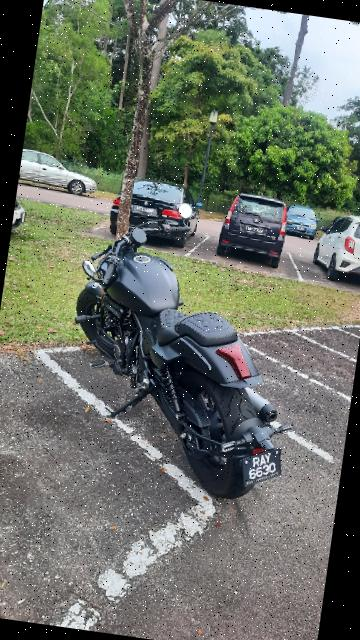License_Plate: (236, 442, 291, 492), (128, 202, 162, 220), (242, 221, 269, 237)
car: (108, 170, 205, 247), (215, 184, 292, 266), (19, 146, 101, 198), (316, 213, 360, 284), (285, 200, 321, 241)
motorcycle: (45, 192, 319, 509)
